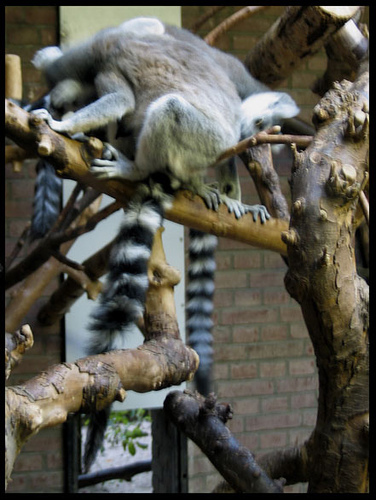cat: (48, 6, 304, 401), (25, 13, 249, 187)
